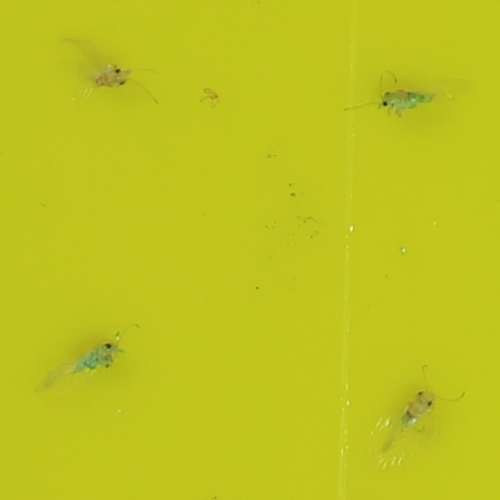Glycaspis: (72, 337, 123, 377), (400, 384, 439, 430), (379, 88, 440, 112), (96, 64, 135, 90)
